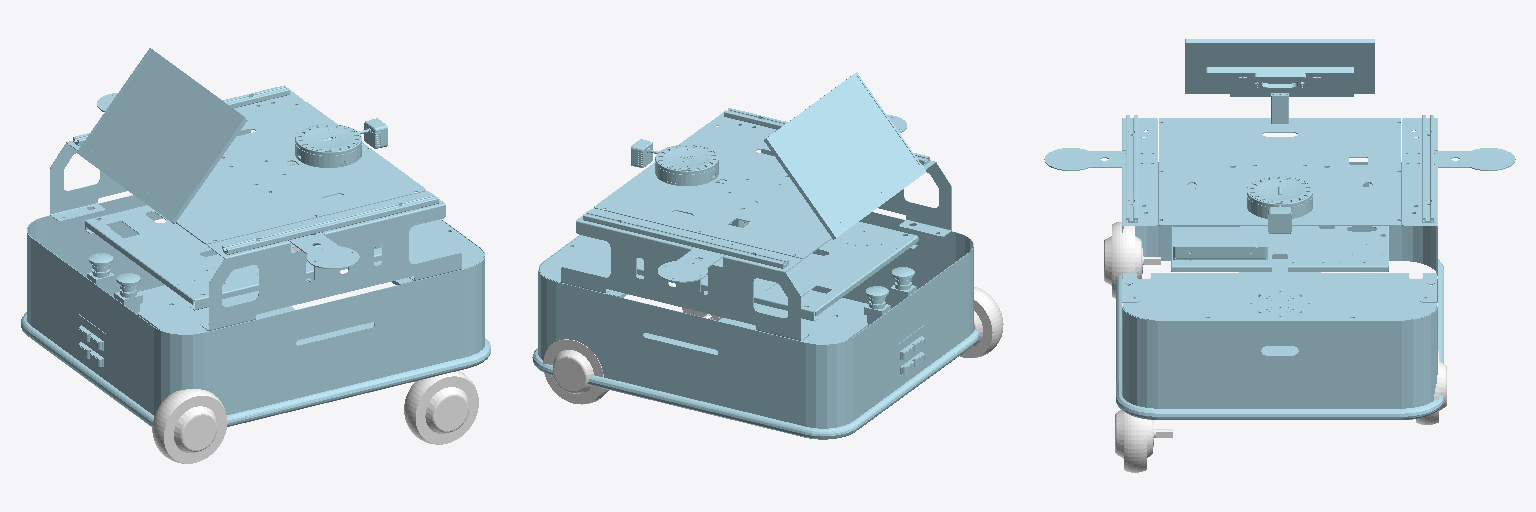
robot.urdf — lucsys_lsr550_4wd_premium_independent_suspension:
<?xml version="1.0" encoding="utf-8"?>
<robot name="lucsys_lsr550_4wd_premium_independent_suspension">
  <link name="base_link">
    <inertial>
      <origin xyz="0.0039692875836891 -0.0169684540029386 0.042340176559083" rpy="0 0 0" />
      <mass value="3.61810836580839" />
      <inertia ixx="0.0123396483090898" ixy="-3.75420365719103E-05" ixz="1.71277627741974E-06" iyy="0.019138606943035" iyz="-4.72702121116256E-07" izz="0.0300647615679597" />
    </inertial>
    <visual>
      <origin xyz="0 0 0" rpy="0 0 0" />
      <geometry>
        <mesh filename="package://lucsys_lsr550_4wd_premium_independent_suspension_description/meshes/lsr550_4wd_premium_independent_suspension/base_link.STL" />
      </geometry>
      <material name="lucsys_material_0">
        <color rgba="0.741176470588235 0.901960784313726 0.956862745098039 1" />
      </material>
    </visual>
    <collision>
      <origin xyz="0 0 0" rpy="0 0 0" />
      <geometry>
        <mesh filename="package://lucsys_lsr550_4wd_premium_independent_suspension_description/meshes/lsr550_4wd_premium_independent_suspension/base_link.STL" />
      </geometry>
    </collision>
  </link>
  <link name="lf_wheel_link">
    <inertial>
      <origin xyz="2.75911313407651E-07 -3.91891407047762E-07 1.95859976084845E-07" rpy="0 0 0" />
      <mass value="0.700030715838823" />
      <inertia ixx="0.00126075310735644" ixy="4.1842907931992E-08" ixz="1.75903085626805E-08" iyy="0.00230176504241376" iyz="3.53598250582258E-08" izz="0.001260767507515" />
    </inertial>
    <visual>
      <origin xyz="0 0 0" rpy="0 0 0" />
      <geometry>
        <mesh filename="package://lucsys_lsr550_4wd_premium_independent_suspension_description/meshes/lsr550_4wd_premium_independent_suspension/lf_wheel_link.STL" />
      </geometry>
      <material name="lucsys_material_1">
        <color rgba="1 1 1 1" />
      </material>
    </visual>
    <collision>
      <origin xyz="0 0 0" rpy="0 0 0" />
      <geometry>
        <mesh filename="package://lucsys_lsr550_4wd_premium_independent_suspension_description/meshes/lsr550_4wd_premium_independent_suspension/lf_wheel_link.STL" />
      </geometry>
    </collision>
  </link>
  <joint name="lf_wheel_joint" type="continuous">
    <origin xyz="0.213999160724458 0.242590433959339 0.016470999999997" rpy="0 0 0" />
    <parent link="base_link" />
    <child link="lf_wheel_link" />
    <axis xyz="0 -0.999999999999996 0" />
  </joint>
  <link name="lb_wheel_link">
    <inertial>
      <origin xyz="2.75911313435406E-07 -3.91891407020006E-07 1.95859976070967E-07" rpy="0 0 0" />
      <mass value="0.700030715838822" />
      <inertia ixx="0.00126075310735644" ixy="4.18429079320475E-08" ixz="1.75903085626591E-08" iyy="0.00230176504241376" iyz="3.53598250582156E-08" izz="0.001260767507515" />
    </inertial>
    <visual>
      <origin xyz="0 0 0" rpy="0 0 0" />
      <geometry>
        <mesh filename="package://lucsys_lsr550_4wd_premium_independent_suspension_description/meshes/lsr550_4wd_premium_independent_suspension/lb_wheel_link.STL" />
      </geometry>
      <material name="lucsys_material_2">
        <color rgba="1 1 1 1" />
      </material>
    </visual>
    <collision>
      <origin xyz="0 0 0" rpy="0 0 0" />
      <geometry>
        <mesh filename="package://lucsys_lsr550_4wd_premium_independent_suspension_description/meshes/lsr550_4wd_premium_independent_suspension/lb_wheel_link.STL" />
      </geometry>
    </collision>
  </link>
  <joint name="lb_wheel_joint" type="continuous">
    <origin xyz="-0.214000839275542 0.24259043395934 0.016470999999997" rpy="0 0 0" />
    <parent link="base_link" />
    <child link="lb_wheel_link" />
    <axis xyz="0 -0.999999999999996 0" />
  </joint>
  <link name="rb_wheel_link">
    <inertial>
      <origin xyz="-2.76184052544481E-07 3.91972408864127E-07 1.95859973087242E-07" rpy="0 0 0" />
      <mass value="0.700030715838823" />
      <inertia ixx="0.00126075310735685" ixy="4.18480167241891E-08" ixz="-1.75903087363996E-08" iyy="0.00230176504241335" iyz="-3.53598249717642E-08" izz="0.001260767507515" />
    </inertial>
    <visual>
      <origin xyz="0 0 0" rpy="0 0 0" />
      <geometry>
        <mesh filename="package://lucsys_lsr550_4wd_premium_independent_suspension_description/meshes/lsr550_4wd_premium_independent_suspension/rb_wheel_link.STL" />
      </geometry>
      <material name="lucsys_material_3">
        <color rgba="1 1 1 1" />
      </material>
    </visual>
    <collision>
      <origin xyz="0 0 0" rpy="0 0 0" />
      <geometry>
        <mesh filename="package://lucsys_lsr550_4wd_premium_independent_suspension_description/meshes/lsr550_4wd_premium_independent_suspension/rb_wheel_link.STL" />
      </geometry>
    </collision>
  </link>
  <joint name="rb_wheel_joint" type="continuous">
    <origin xyz="-0.214012839275544 -0.23856356604066 0.016470999999997" rpy="0 0 0" />
    <parent link="base_link" />
    <child link="rb_wheel_link" />
    <axis xyz="0 0.999999999999996 0" />
  </joint>
  <link name="rf_wheel_link">
    <inertial>
      <origin xyz="-2.76184052461215E-07 3.91972408919639E-07 1.9585997310112E-07" rpy="0 0 0" />
      <mass value="0.700030715838823" />
      <inertia ixx="0.00126075310735685" ixy="4.18480167242432E-08" ixz="-1.75903087364055E-08" iyy="0.00230176504241335" iyz="-3.5359824971763E-08" izz="0.001260767507515" />
    </inertial>
    <visual>
      <origin xyz="0 0 0" rpy="0 0 0" />
      <geometry>
        <mesh filename="package://lucsys_lsr550_4wd_premium_independent_suspension_description/meshes/lsr550_4wd_premium_independent_suspension/rf_wheel_link.STL" />
      </geometry>
      <material name="lucsys_material_4">
        <color rgba="1 1 1 1" />
      </material>
    </visual>
    <collision>
      <origin xyz="0 0 0" rpy="0 0 0" />
      <geometry>
        <mesh filename="package://lucsys_lsr550_4wd_premium_independent_suspension_description/meshes/lsr550_4wd_premium_independent_suspension/rf_wheel_link.STL" />
      </geometry>
    </collision>
  </link>
  <joint name="rf_wheel_joint" type="continuous">
    <origin xyz="0.213987160724456 -0.238563566040661 0.016470999999997" rpy="0 0 0" />
    <parent link="base_link" />
    <child link="rf_wheel_link" />
    <axis xyz="0 0.999999999999996 0" />
  </joint>
  <link name="camera_link">
    <inertial>
      <origin xyz="3.44868297197376E-07 -3.53598340584031E-07 1.07617269679006E-07" rpy="0 0 0" />
      <mass value="0.0559842512667172" />
      <inertia ixx="0.000130810959355656" ixy="1.20255121404777E-07" ixz="1.62335437373898E-06" iyy="1.91148635028013E-05" iyz="-2.80016695785784E-08" izz="0.000131387469540189" />
    </inertial>
    <visual>
      <origin xyz="0 0 0" rpy="0 0 0" />
      <geometry>
        <mesh filename="package://lucsys_lsr550_4wd_premium_independent_suspension_description/meshes/lsr550_4wd_premium_independent_suspension/camera_link.STL" />
      </geometry>
      <material name="lucsys_material_5">
        <color rgba="1 1 1 1" />
      </material>
    </visual>
    <collision>
      <origin xyz="0 0 0" rpy="0 0 0" />
      <geometry>
        <mesh filename="package://lucsys_lsr550_4wd_premium_independent_suspension_description/meshes/lsr550_4wd_premium_independent_suspension/camera_link.STL" />
      </geometry>
    </collision>
  </link>
  <joint name="camera_joint" type="fixed">
    <origin xyz="0.231597160724457 0.00224143395933855 0.128203999999997" rpy="0 0 0" />
    <parent link="base_link" />
    <child link="camera_link" />
    <axis xyz="0 0 0" />
  </joint>
  <link name="laser_link">
    <inertial>
      <origin xyz="0.00196458631092417 -3.57895369235698E-06 -0.000201831632183791" rpy="0 0 0" />
      <mass value="0.0477519163700356" />
      <inertia ixx="3.38461999734689E-05" ixy="-2.19897049050811E-09" ixz="1.07118468692931E-06" iyy="3.9415041585171E-05" iyz="6.83978477324344E-10" izz="5.60787042097609E-05" />
    </inertial>
    <visual>
      <origin xyz="0 0 0" rpy="0 0 0" />
      <geometry>
        <mesh filename="package://lucsys_lsr550_4wd_premium_independent_suspension_description/meshes/lsr550_4wd_premium_independent_suspension/laser.STL" />
      </geometry>
      <material name="lucsys_material_6">
        <color rgba="0.376470588235294 0.376470588235294 0.376470588235294 1" />
      </material>
    </visual>
    <collision>
      <origin xyz="0 0 0" rpy="0 0 0" />
      <geometry>
        <mesh filename="package://lucsys_lsr550_4wd_premium_independent_suspension_description/meshes/lsr550_4wd_premium_independent_suspension/laser.STL" />
      </geometry>
    </collision>
  </link>
  <joint name="laser_joint" type="fixed">
    <origin xyz="0.156992810769455 0.00201378391434084 0.146524183741428" rpy="0 0 3.14159265358979" />
    <parent link="base_link" />
    <child link="laser_link" />
    <axis xyz="0 0 0" />
  </joint>
  <link name="controller_link">
    <inertial>
      <origin xyz="-0.049710340079087 0.0175133935293354 0.00856001460559375" rpy="0 0 0" />
      <mass value="0.00107921953110443" />
      <inertia ixx="1.16330109775188E-08" ixy="-3.94092668869415E-09" ixz="3.69212784612903E-10" iyy="2.26830020206353E-07" iyz="5.23015130069675E-10" izz="2.2565704246194E-07" />
    </inertial>
    <visual>
      <origin xyz="0 0 0" rpy="0 0 0" />
      <geometry>
        <mesh filename="package://lucsys_lsr550_4wd_premium_independent_suspension_description/meshes/lsr550_4wd_premium_independent_suspension/controller_link.STL" />
      </geometry>
      <material name="lucsys_material_7">
        <color rgba="0.741176470588235 0.901960784313726 0.956862745098039 1" />
      </material>
    </visual>
    <collision>
      <origin xyz="0 0 0" rpy="0 0 0" />
      <geometry>
        <mesh filename="package://lucsys_lsr550_4wd_premium_independent_suspension_description/meshes/lsr550_4wd_premium_independent_suspension/controller_link.STL" />
      </geometry>
    </collision>
  </link>
  <joint name="controller_joint" type="fixed">
    <origin xyz="0.101379911991689 0.0620176418028498 0.00150000000000076" rpy="0 0 0" />
    <parent link="base_link" />
    <child link="controller_link" />
    <axis xyz="0 0 0" />
  </joint>
</robot>

--- Facts derived from the render (not from the file) ---
The picture shows the robot from 3 angles, left to right: view 1: azimuth 30°, elevation 25°; view 2: azimuth 150°, elevation 25°; view 3: azimuth 270°, elevation 25°; orthographic projection.
Robot: lucsys_lsr550_4wd_premium_independent_suspension — 8 links, 7 joints (4 continuous, 3 fixed); root link base_link; default pose: all joints at 0.
Links seen in each view (by area): view 1: base_link, rb_wheel_link, rf_wheel_link; view 2: base_link, lf_wheel_link, rb_wheel_link; view 3: base_link, rf_wheel_link, rb_wheel_link, lf_wheel_link.
Boxes of the visible links, box(x1,y1,x2,y2) form: base_link: box(21, 48, 490, 426); rb_wheel_link: box(152, 389, 226, 463); rf_wheel_link: box(404, 371, 478, 444); base_link: box(532, 72, 979, 439); lf_wheel_link: box(543, 339, 608, 404); rb_wheel_link: box(960, 287, 1003, 357); base_link: box(1044, 39, 1515, 419); rf_wheel_link: box(1115, 410, 1172, 472); rb_wheel_link: box(1104, 222, 1160, 298); lf_wheel_link: box(1416, 349, 1446, 424).
Size in the robot's own frame: 0.6592 by 0.7764 by 0.6309 metres.
Meshes: 8 distinct files referenced, 4 mesh visuals loaded (4 binary STL); not drawn: 4 (reference not matched to a file when rendering).
